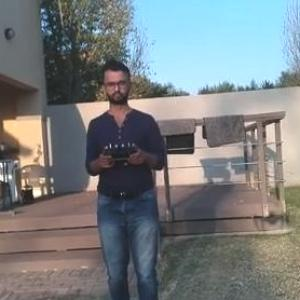follow: (83, 53, 175, 299)
